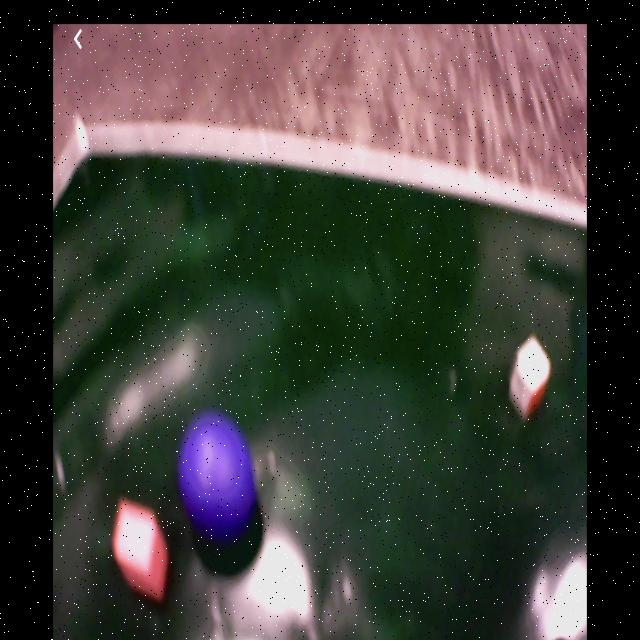ball: (182, 416, 255, 535)
